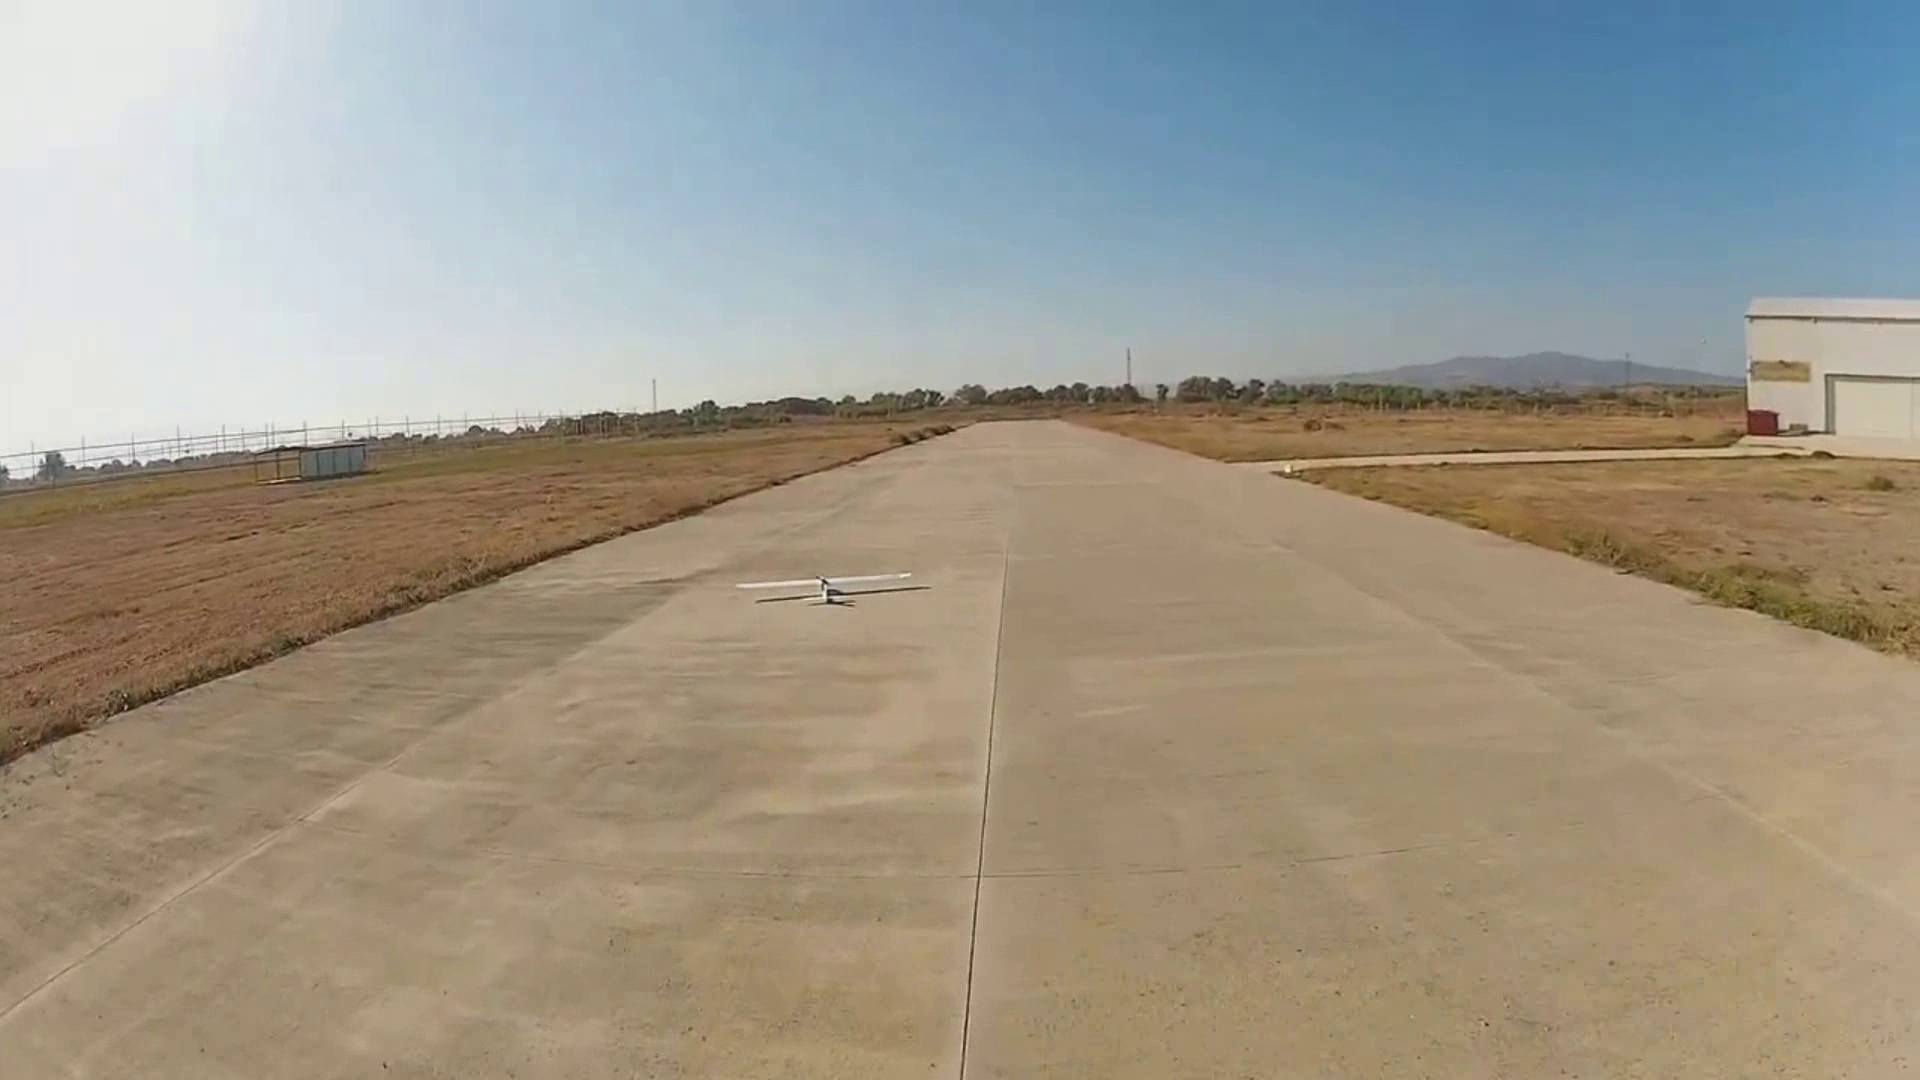airplane: (738, 574, 922, 604)
